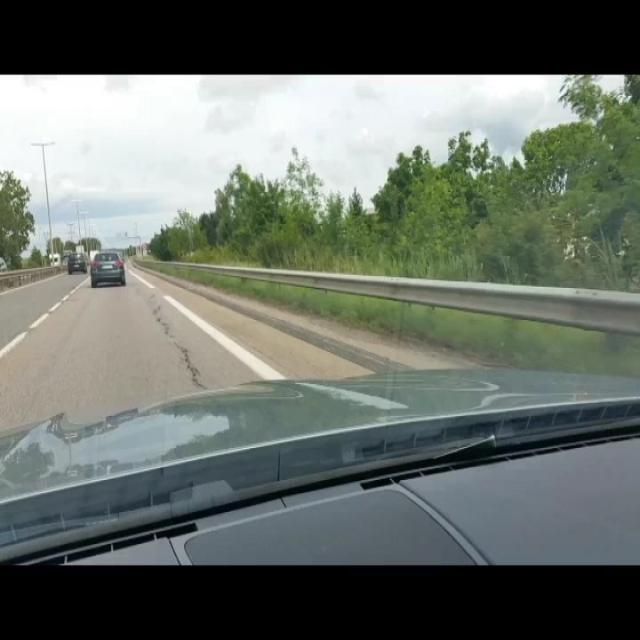direction: (116, 229, 130, 239)
